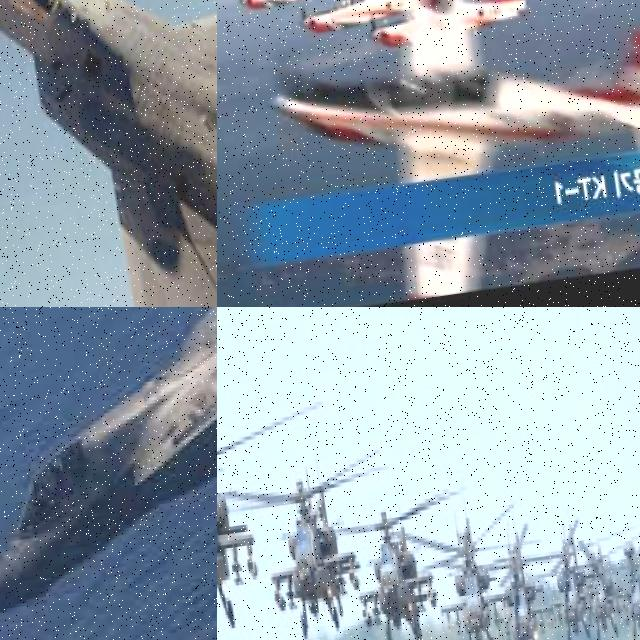Apache: (221, 443, 401, 640), (217, 384, 348, 640), (410, 485, 547, 640), (340, 482, 467, 640), (524, 509, 619, 640), (575, 524, 634, 640), (612, 523, 640, 640)
F22: (0, 307, 217, 620), (0, 0, 217, 307)
KT-1: (247, 0, 640, 307), (358, 0, 538, 61), (297, 0, 447, 38), (229, 0, 351, 24)
